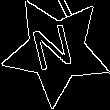N_S: (31, 21, 81, 80)
